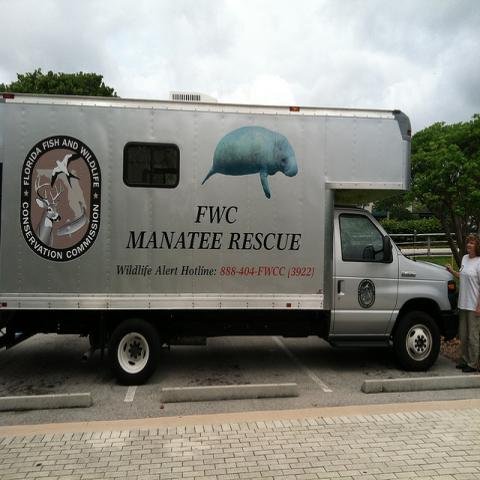truck: (0, 89, 462, 391)
